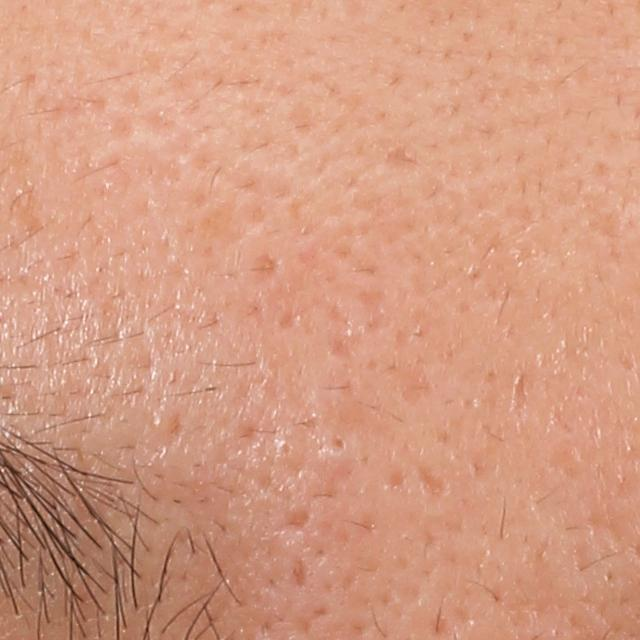atrophic_scar: (384, 352, 434, 403), (243, 253, 285, 291), (505, 364, 528, 421), (291, 554, 307, 593), (283, 508, 312, 528)
comedo: (270, 439, 298, 462), (331, 432, 352, 455)
